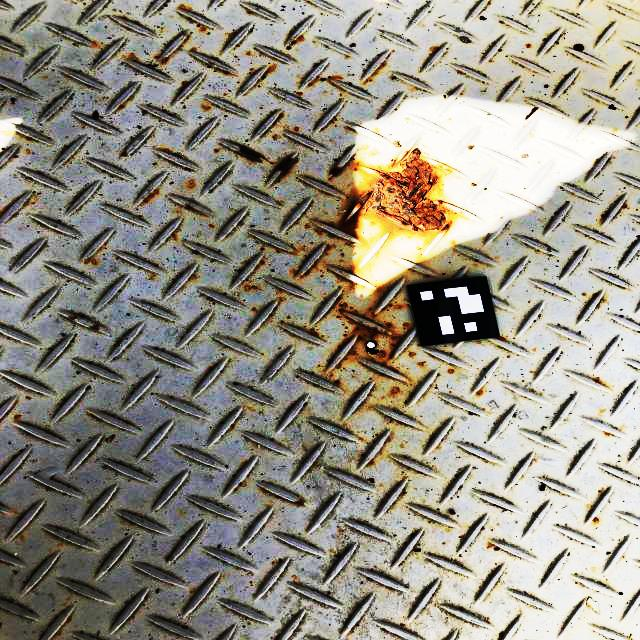Corrosion: (355, 148, 457, 234), (340, 211, 435, 248), (348, 318, 402, 369), (343, 158, 382, 223), (363, 62, 386, 83), (239, 145, 265, 162), (273, 157, 295, 176), (336, 302, 359, 320), (301, 260, 318, 277), (144, 189, 160, 203), (289, 36, 303, 46), (331, 167, 344, 175), (266, 66, 277, 75), (368, 307, 377, 317), (245, 284, 258, 290), (327, 76, 342, 81), (389, 304, 402, 308), (592, 517, 600, 523), (161, 57, 168, 63), (403, 323, 411, 328), (333, 379, 340, 384), (199, 27, 207, 31), (223, 70, 230, 74)
